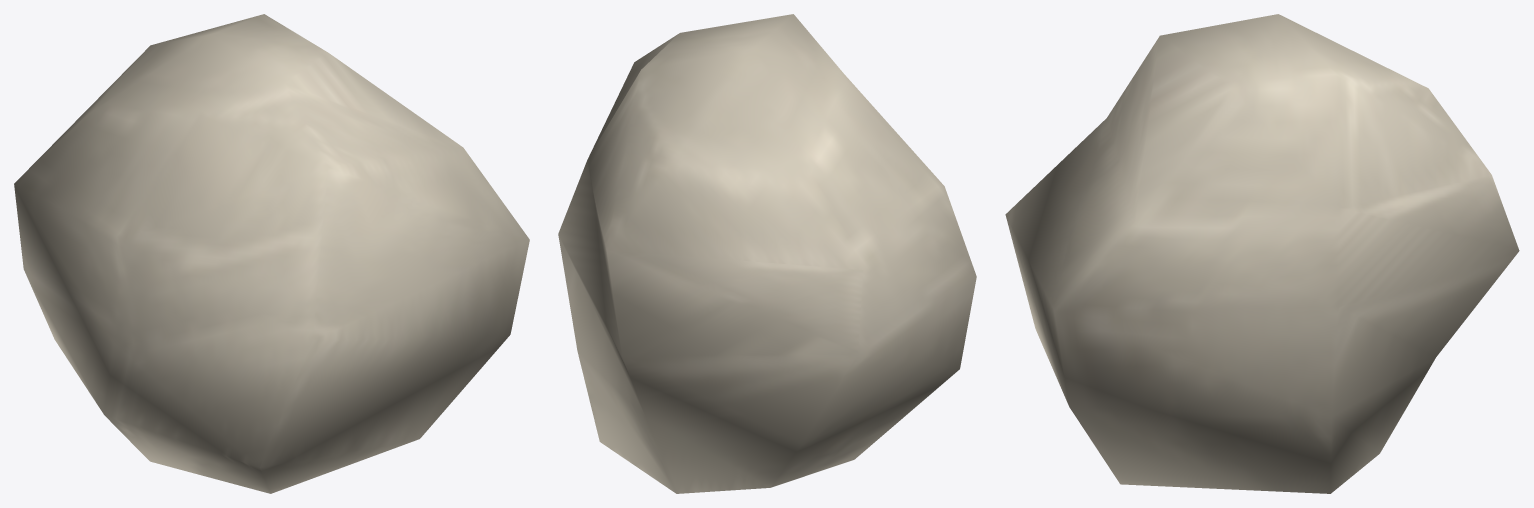
The model's file is Rock4.fbx.
The picture shows the model from 3 angles, left to right: view 1: azimuth 30°, elevation 25°; view 2: azimuth 150°, elevation 25°; view 3: azimuth 270°, elevation 25°; orthographic projection. The views are drawn at different scales.
Parts seen in each view (by area): view 1: Rock2; view 2: Rock2; view 3: Rock2.
Boxes of the visible parts, x1,y1,x2,y2 form: Rock2: (14,14,529,493); Rock2: (558,14,976,493); Rock2: (1005,14,1519,493).
Size of the model in its own units: 200 by 214 by 230.
